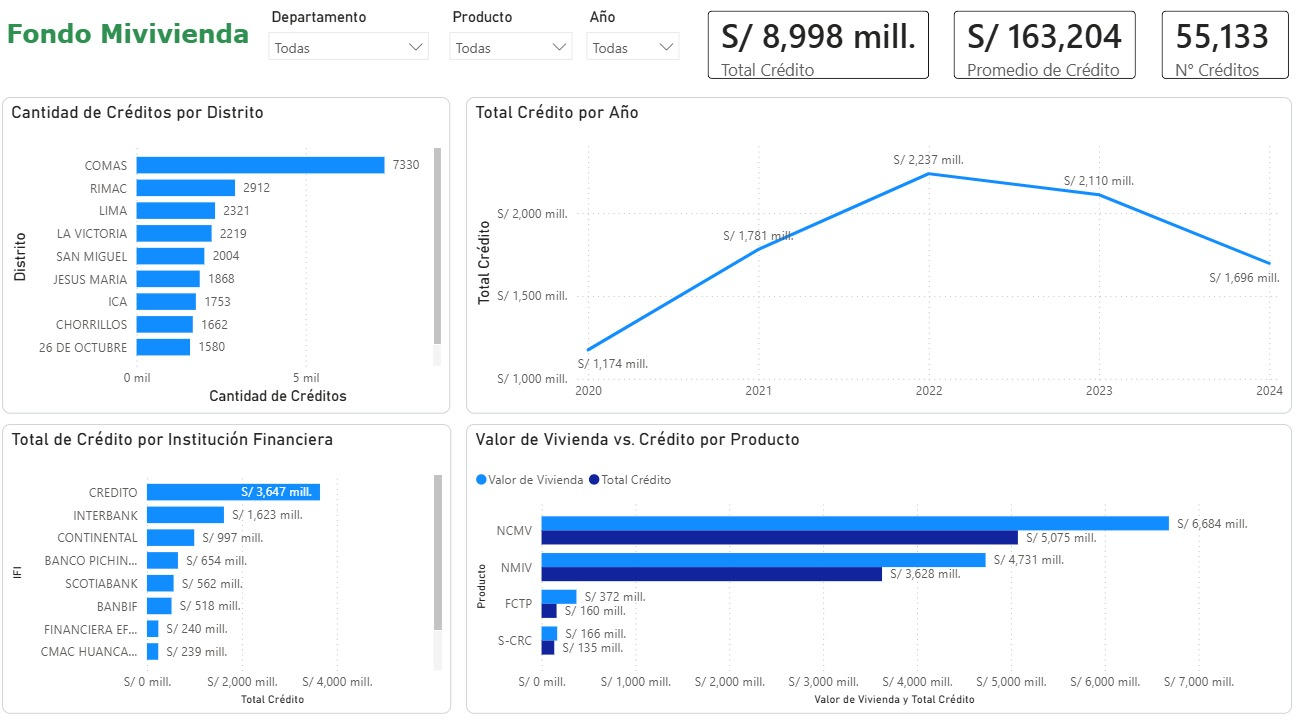

The page's visual inventory and layout, read from the dashboard file:
{"tool":"powerbi","page":{"name":"Página 1","canvas":[1280,720],"ordinal":0},"visuals":[{"type":"slicer","fields":{"Values":["limpio_mivivienda.DEPARTAMENTO"]},"box":[268.4,9.7,175.1,69.1],"z":1000},{"type":"slicer","fields":{"Values":["limpio_mivivienda.DEPARTAMENTO"]},"box":[257,9.7,175.1,69.1],"z":2000},{"type":"slicer","fields":{"Values":["limpio_mivivienda.PRODUCTO"]},"box":[431.8,9.7,139.1,70],"z":3000},{"type":"slicer","fields":{"Values":["Tiempo.AÑO"]},"box":[564.2,9.7,109.9,59.3],"z":4000},{"type":"cardVisual","title":"Promedio de Credito","fields":{"Data":["Medidas.Promedio de Credito"]},"box":[911.9,0,210.6,100.5],"z":5000},{"type":"cardVisual","fields":{"Data":["Medidas.Cantidad de Creditos"]},"box":[1112.9,0,157.5,100.5],"z":6000},{"type":"barChart","title":"Cantidad de Créditos por Distrito","fields":{"Category":["limpio_mivivienda.DISTRITO"],"Y":["Medidas.Cantidad de Creditos"]},"box":[9.7,100.4,433.4,306],"z":7000},{"type":"lineChart","title":"Total Crédito por Año","fields":{"Y":["Medidas.Total Credito"],"Category":["Tiempo.AÑO"]},"box":[457.9,100.5,797.9,306.2],"z":8000},{"type":"clusteredBarChart","title":"Total de Crédito por Institución Financiera","fields":{"Category":["limpio_mivivienda.IFI"],"Y":["Medidas.Total Credito"]},"box":[9.7,416.4,433.8,280.2],"z":9000},{"type":"cardVisual","fields":{"Data":["Medidas.Total Credito"]},"box":[674.3,0,248.3,100.5],"z":10000},{"type":"clusteredBarChart","title":"Valor de Vivienda vs. Crédito por Producto","fields":{"Y":["Sum(limpio_mivivienda.MONTO_VALOR_VIVIENDA)","Medidas.Total Credito"],"Category":["limpio_mivivienda.PRODUCTO"]},"box":[457.9,416.4,797.9,280.2],"z":11000},{"type":"image","box":[9.7,0,247.3,97.6],"z":11001}]}

Visuals, with their boxes in screenshot pixels (x1, y1, x2, y2), scaled from the page's 1280x720 canvas onto the 1308x724 screenshot:
slicer - limpio_mivivienda.DEPARTAMENTO: BBox(274, 10, 453, 79)
slicer - limpio_mivivienda.DEPARTAMENTO: BBox(263, 10, 442, 79)
slicer - limpio_mivivienda.PRODUCTO: BBox(441, 10, 583, 80)
slicer - Tiempo.AÑO: BBox(577, 10, 689, 69)
"Promedio de Credito" cardVisual: BBox(932, 0, 1147, 101)
cardVisual - Medidas.Cantidad de Creditos: BBox(1137, 0, 1298, 101)
"Cantidad de Créditos por Distrito" barChart: BBox(10, 101, 453, 409)
"Total Crédito por Año" lineChart: BBox(468, 101, 1283, 409)
"Total de Crédito por Institución Financiera" clusteredBarChart: BBox(10, 419, 453, 700)
cardVisual - Medidas.Total Credito: BBox(689, 0, 943, 101)
"Valor de Vivienda vs. Crédito por Producto" clusteredBarChart: BBox(468, 419, 1283, 700)
image: BBox(10, 0, 263, 98)
